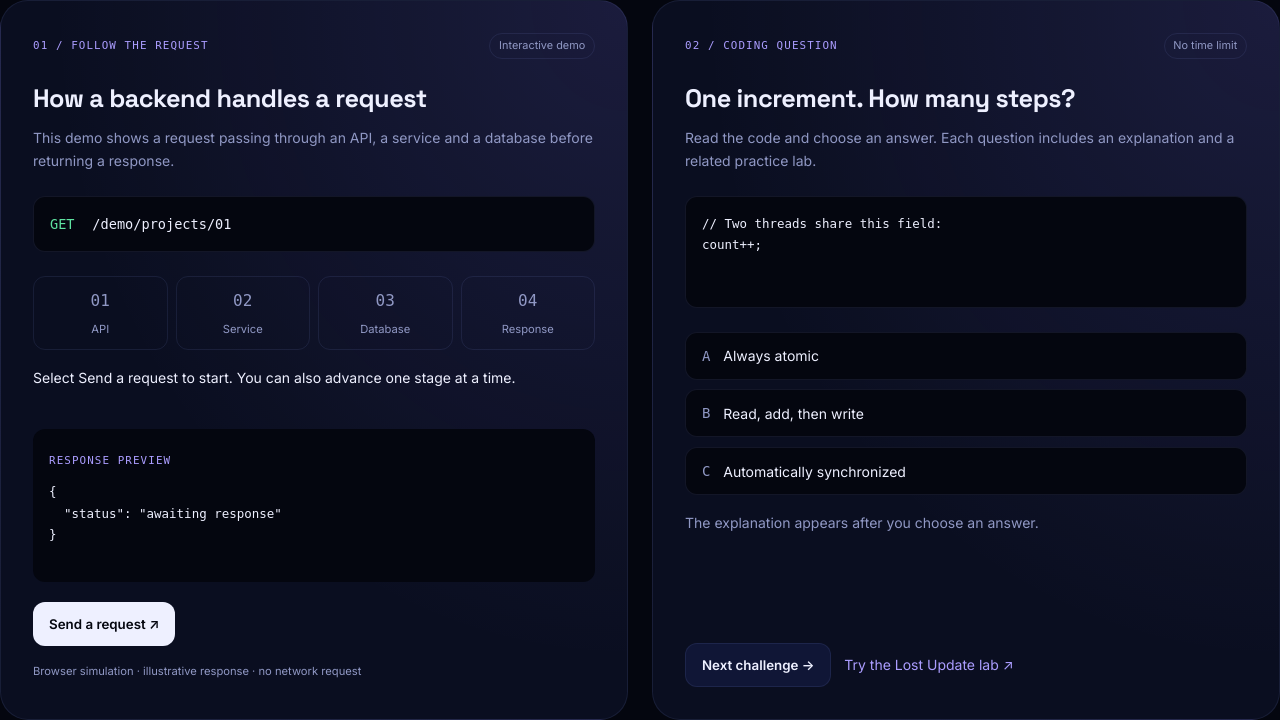
Test: challenge explains an answer, locks choices, and resets for the next question
The image size is (1280, 720).
Click the button "Next challenge →". click: click(758, 665)
box: [685,643,832,687]
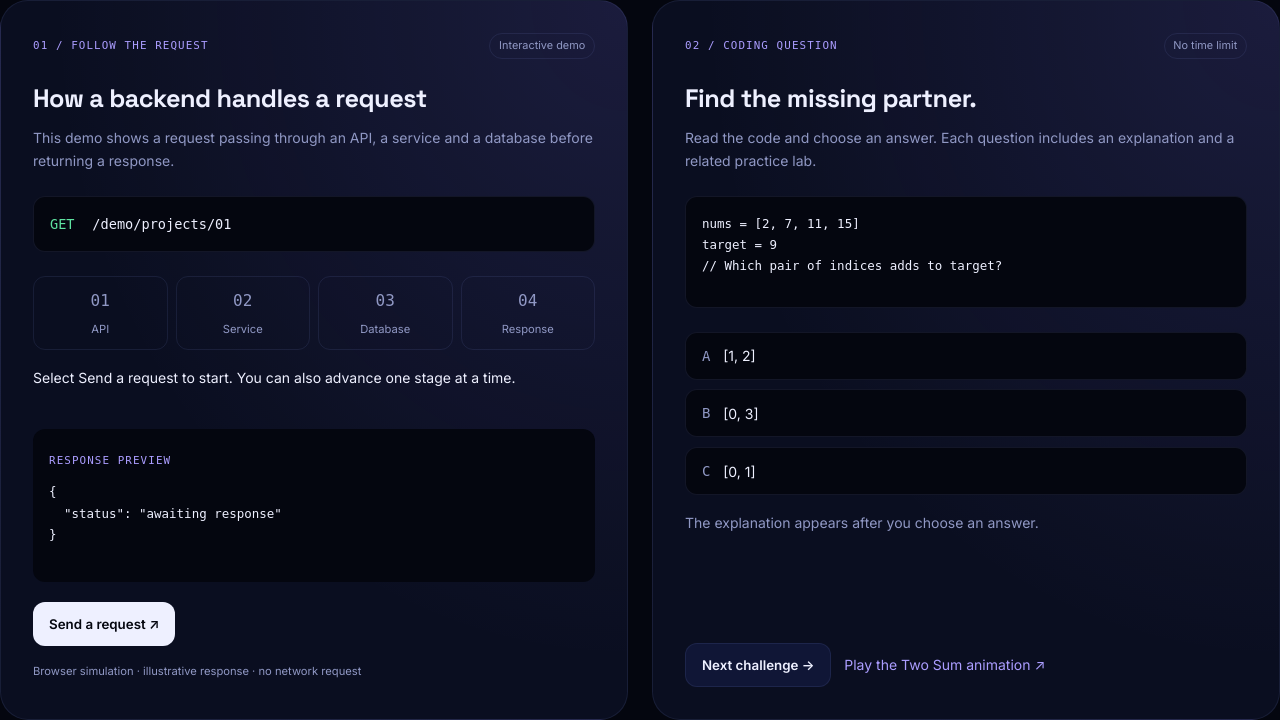
Click the button "Next challenge →". click: click(758, 665)
box: [685,643,832,687]
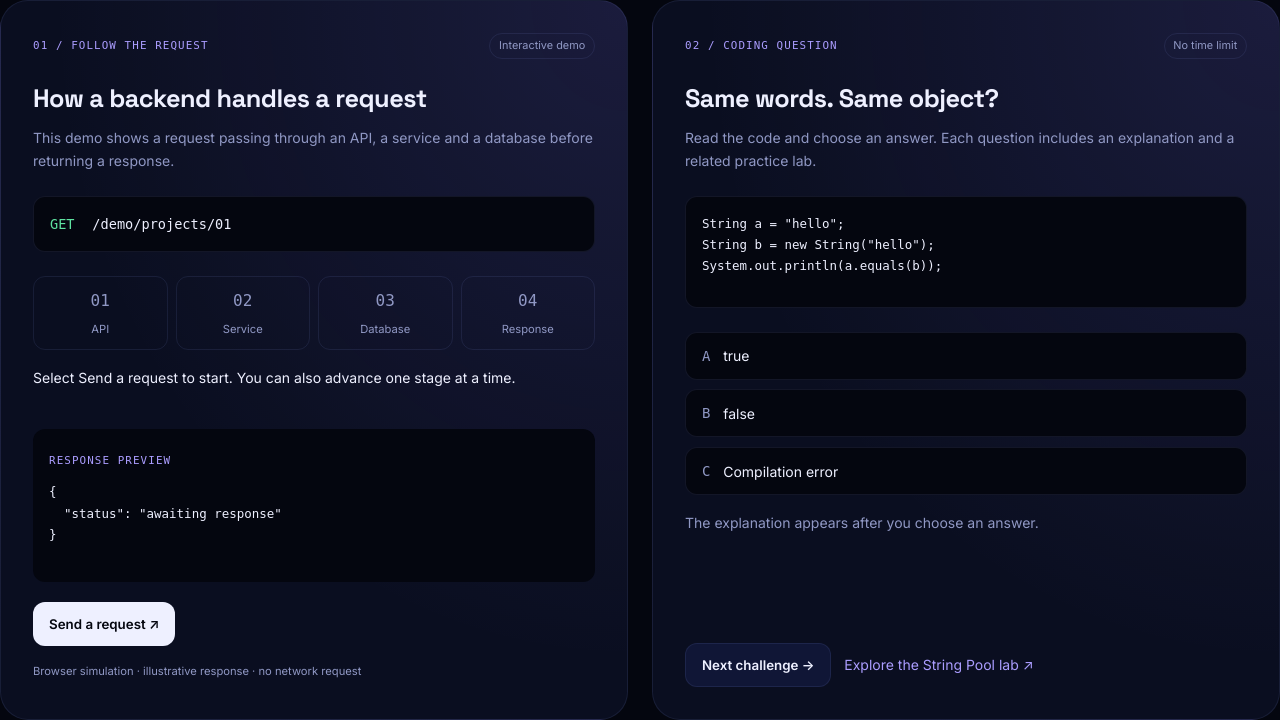
Click the button "A true". click: click(706, 356)
box: [685,332,1247,380]
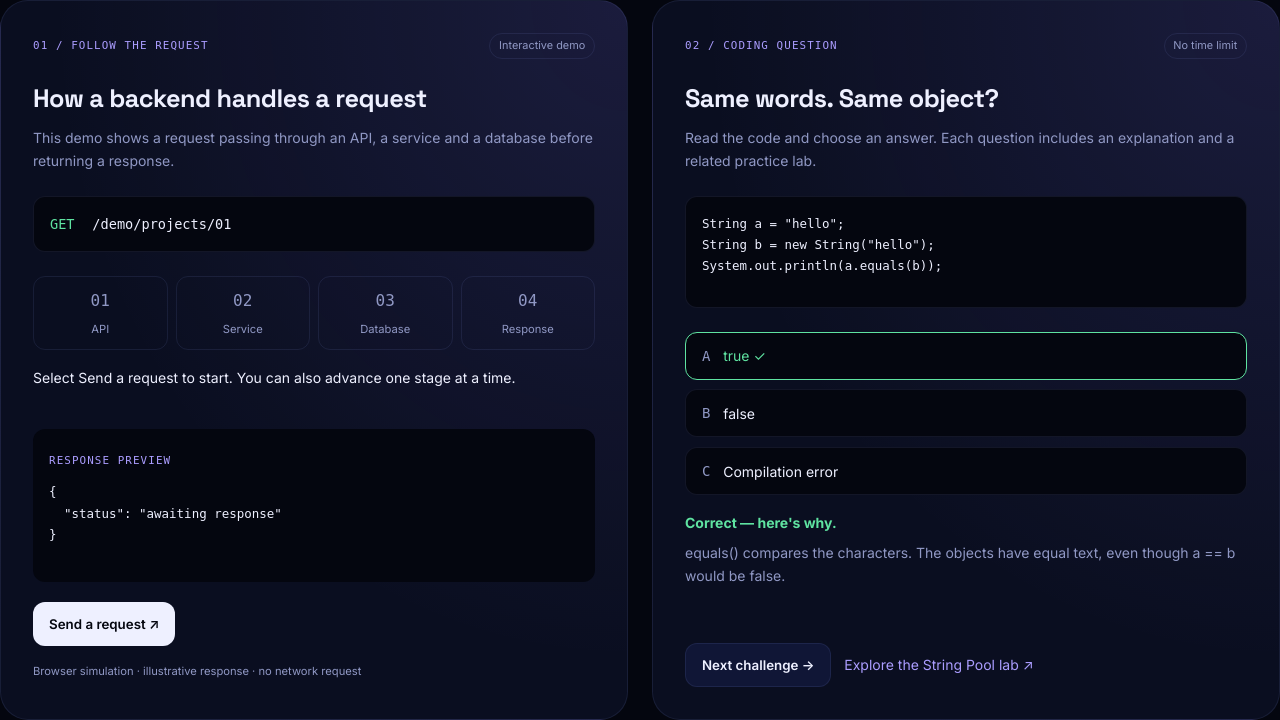
Now the text "Correct — here's why." is shown, box [685,514,837,531]
Now the text "equals() compares the characters" is shown, box [685,544,1235,584]
Now the button "A true ✓" is disabled, box [685,332,1247,380]
Click the button "Next challenge →". click: click(758, 665)
box: [685,643,832,687]
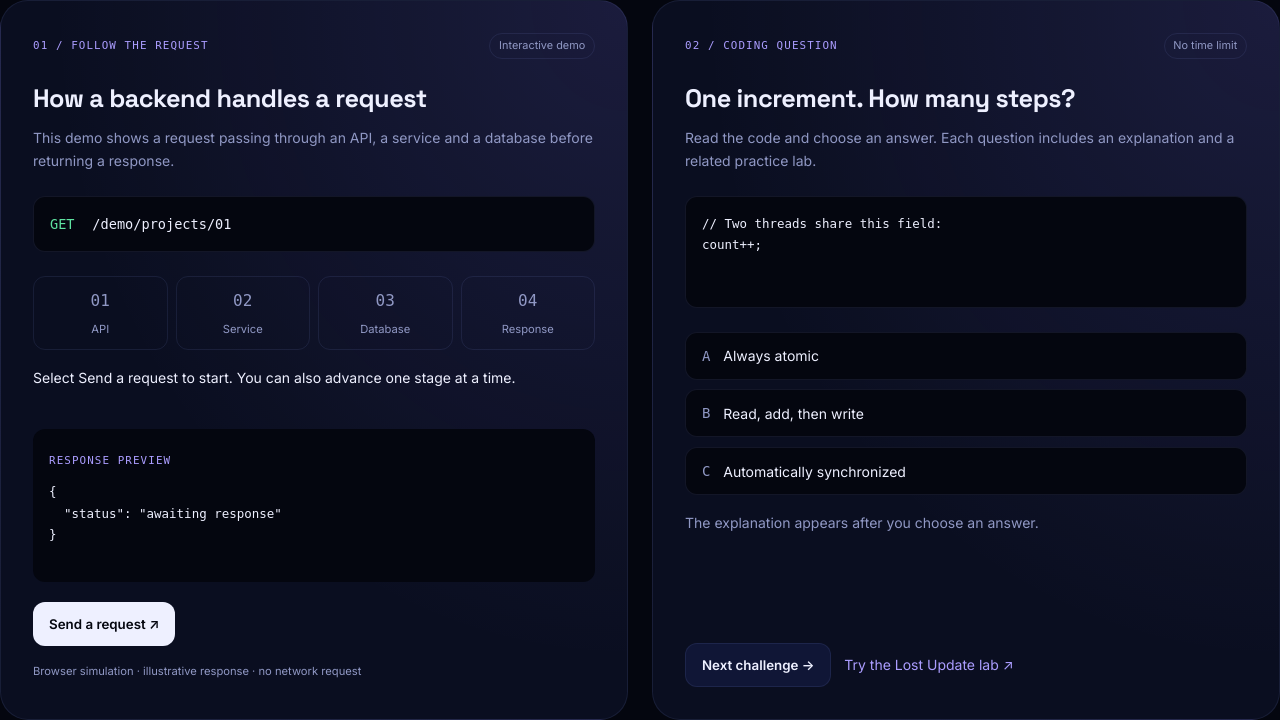
Now the text "Correct — here's why" is gone
Now the button "A Always atomic" is enabled, box [685,332,1247,380]
Now the button "B Read, add, then write" is enabled, box [685,389,1247,437]
